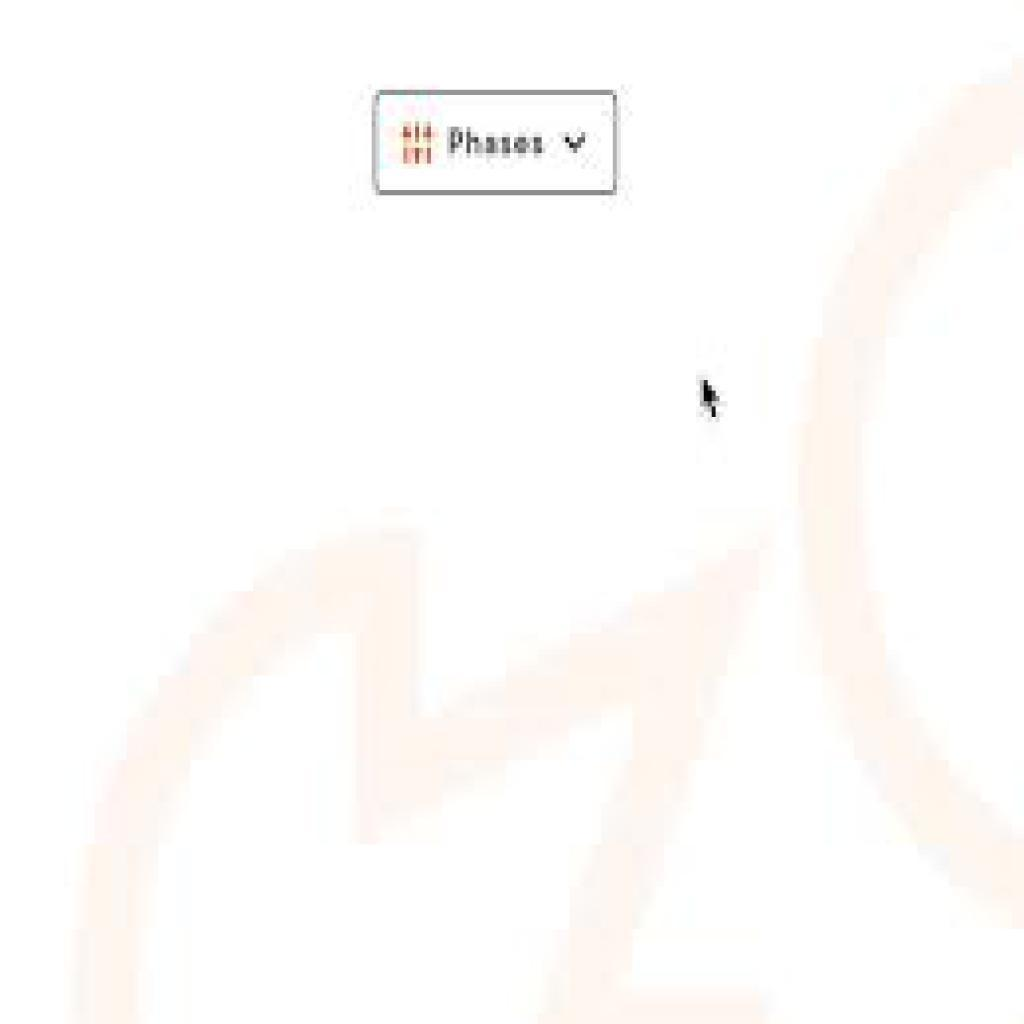dropdown: (376, 92, 614, 194)
